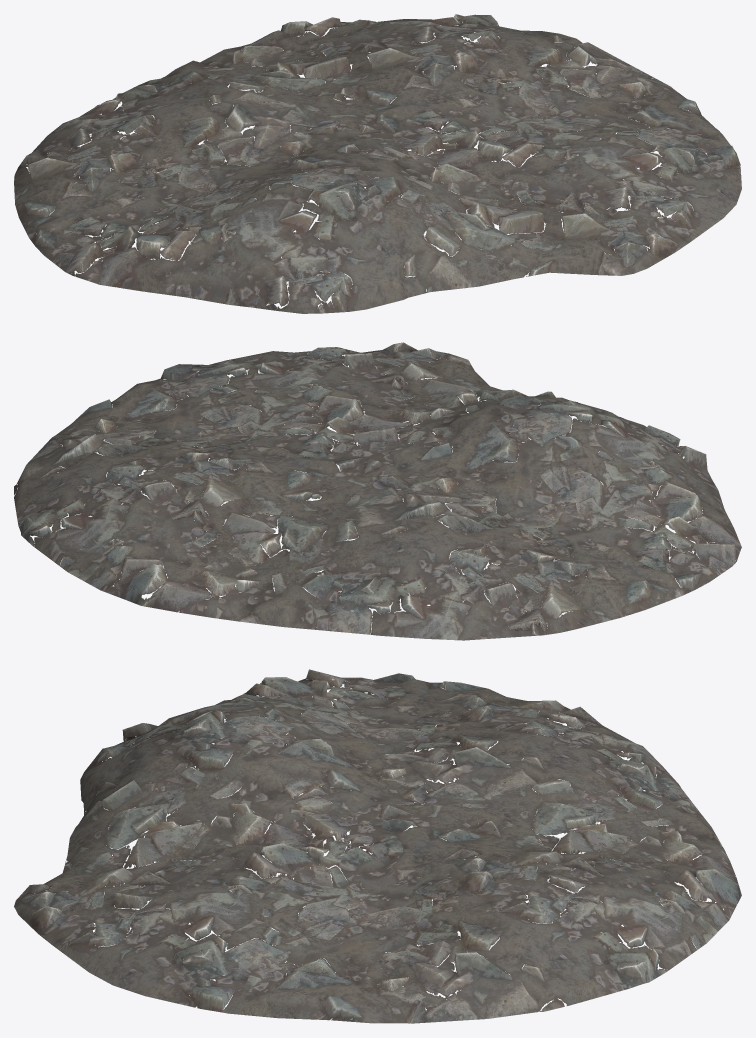
The picture shows the model from 3 angles, top to bottom: view 1: azimuth 30°, elevation 25°; view 2: azimuth 150°, elevation 25°; view 3: azimuth 270°, elevation 25°; orthographic projection. The views are drawn at different scales.
Parts seen in each view (by area): view 1: SM_Vault_Debris_01_V1_LOD0; view 2: SM_Vault_Debris_01_V1_LOD0; view 3: SM_Vault_Debris_01_V1_LOD0.
Part boxes in pixels (x1,y1,x2,y2): SM_Vault_Debris_01_V1_LOD0: (14, 14, 741, 313); SM_Vault_Debris_01_V1_LOD0: (14, 342, 741, 640); SM_Vault_Debris_01_V1_LOD0: (14, 669, 741, 1023).
Bounding box in the file's own units: 7.46 × 0.7649 × 6.69.
1 material, 1 textured.
